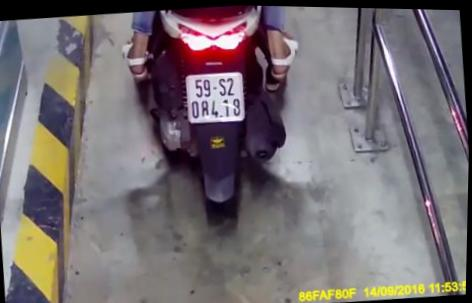LP: (184, 67, 249, 122)
